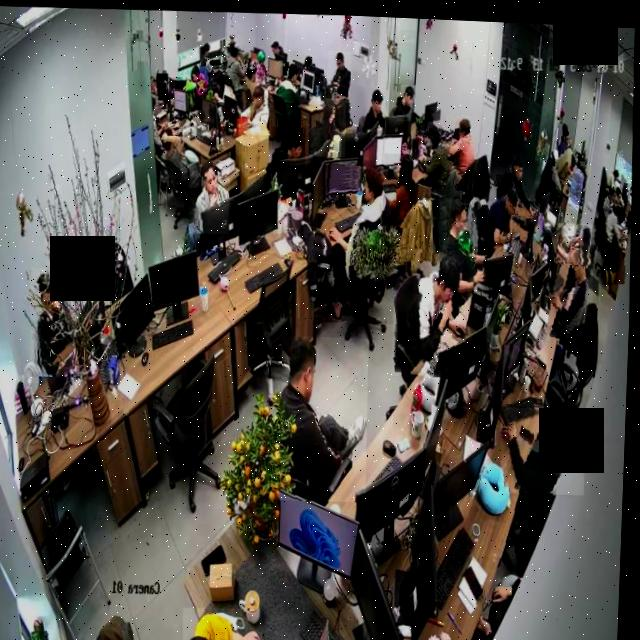person: (280, 331, 374, 500), (315, 159, 401, 321), (392, 244, 478, 374), (502, 401, 589, 491), (30, 266, 80, 377), (438, 193, 493, 291), (550, 233, 597, 334), (188, 157, 232, 233), (417, 116, 456, 197), (185, 604, 267, 640), (443, 110, 480, 187), (383, 149, 419, 225), (601, 181, 628, 279), (160, 124, 202, 186), (500, 151, 543, 211), (485, 181, 523, 247), (310, 95, 348, 155), (326, 47, 352, 124), (237, 79, 272, 133), (273, 58, 304, 117), (272, 123, 307, 170), (356, 83, 387, 136), (557, 217, 594, 260), (223, 42, 247, 91), (200, 40, 219, 79), (396, 80, 416, 117)
